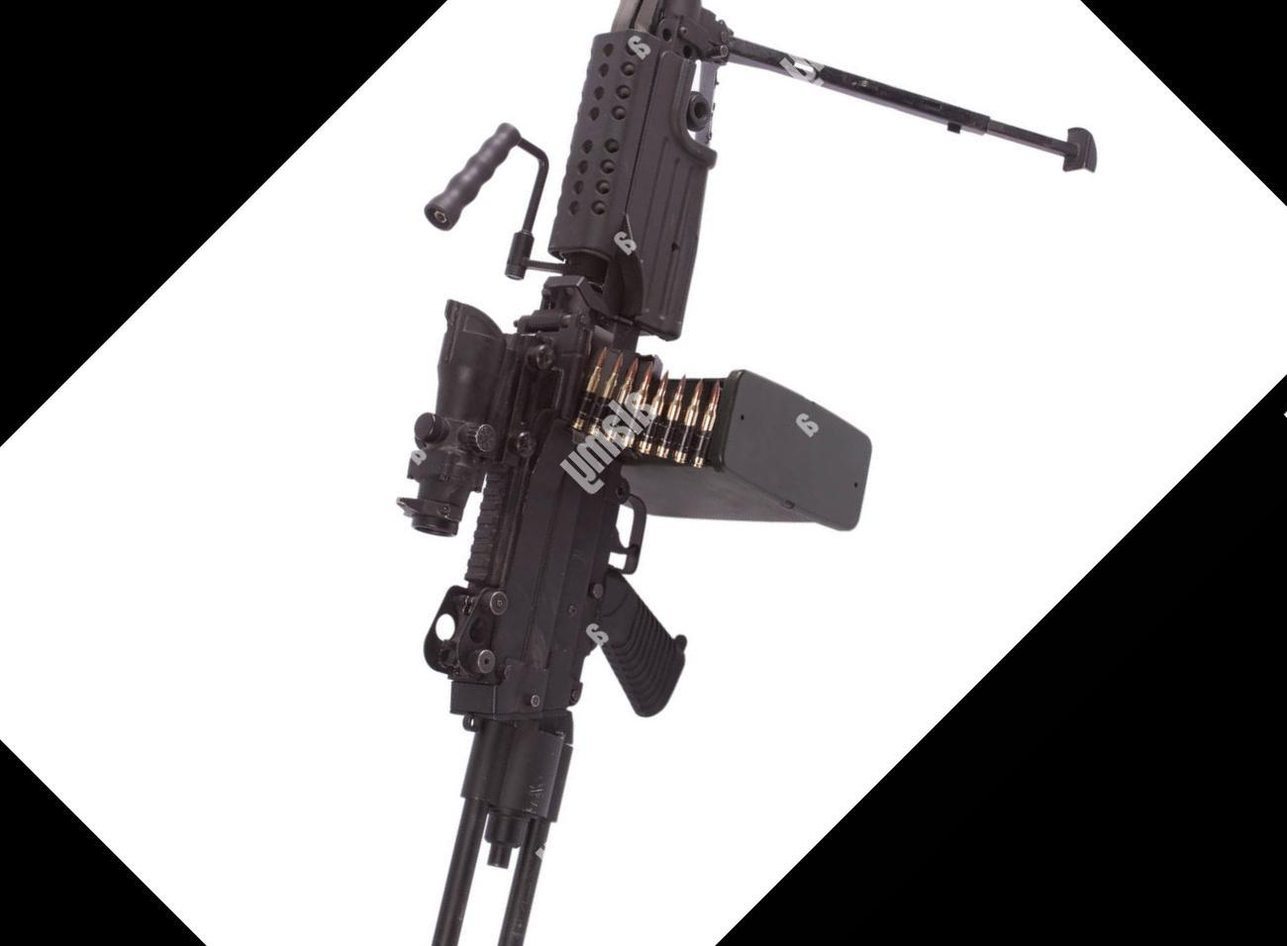larga: (399, 0, 1096, 946)
